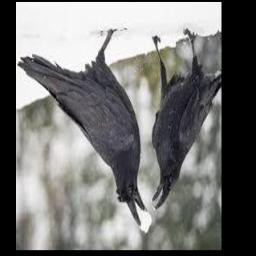Crow: (17, 28, 147, 228), (150, 27, 221, 210)
